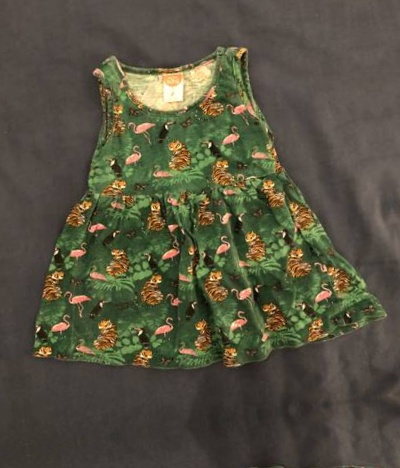Dress: (0, 18, 389, 397), (38, 448, 400, 468), (0, 74, 16, 453), (385, 0, 400, 335)
